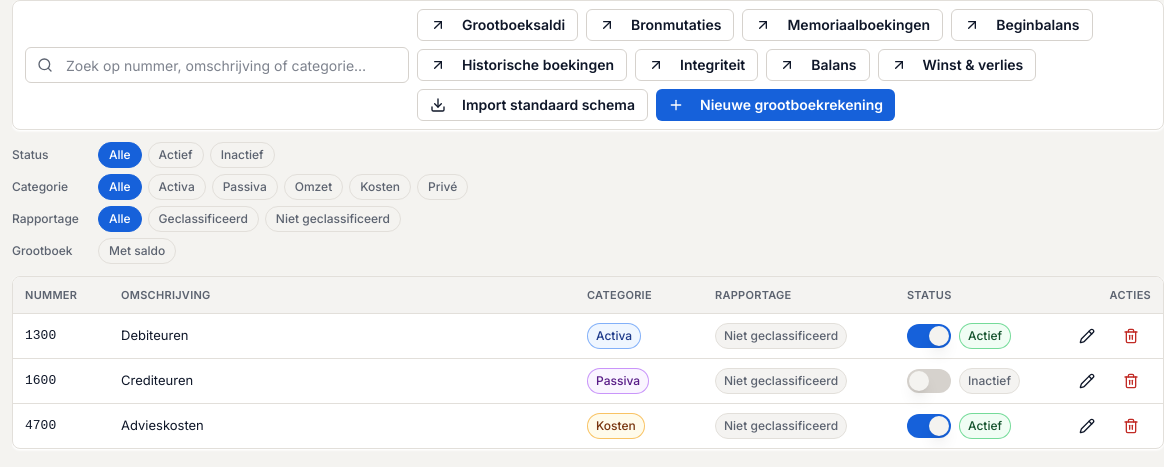
Test: Rekeningschema — zoeken en filters › zoekt op omschrijving
This screenshot has width=1164, height=467.
In the field with placeholder "Zoek op nummer, omschrijving of categorie…": (217, 65) [25,47,409,83], type "credit"
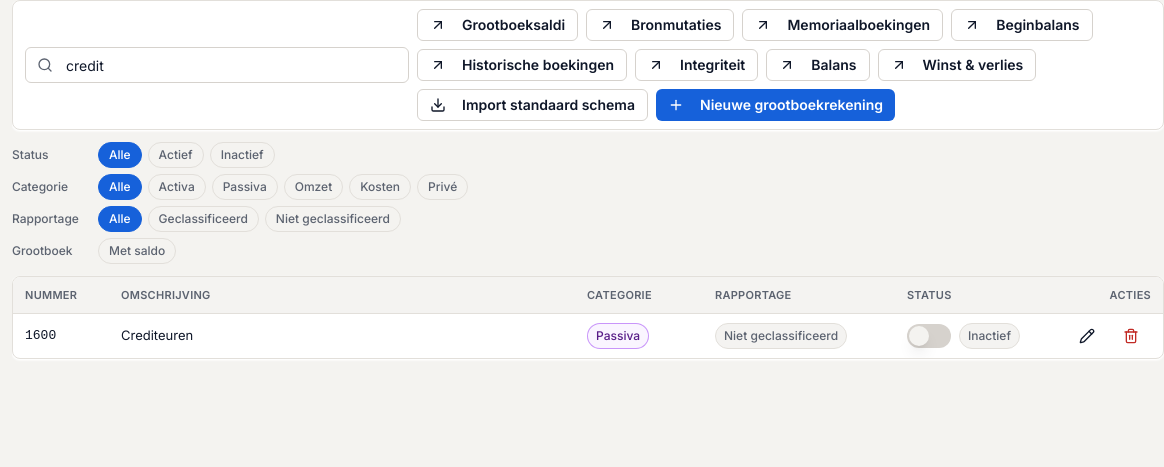
Expected: the text "Crediteuren" is shown, [109,313,575,358]
Expected: the text "Debiteuren" is gone
